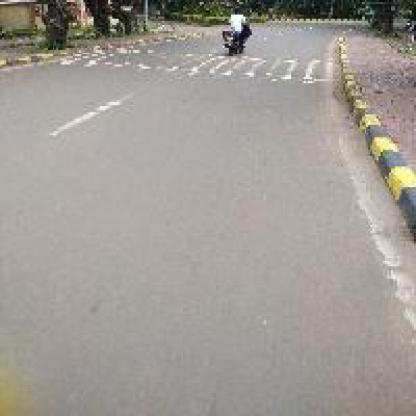Speed Bump: (52, 50, 223, 77), (235, 54, 333, 87)
